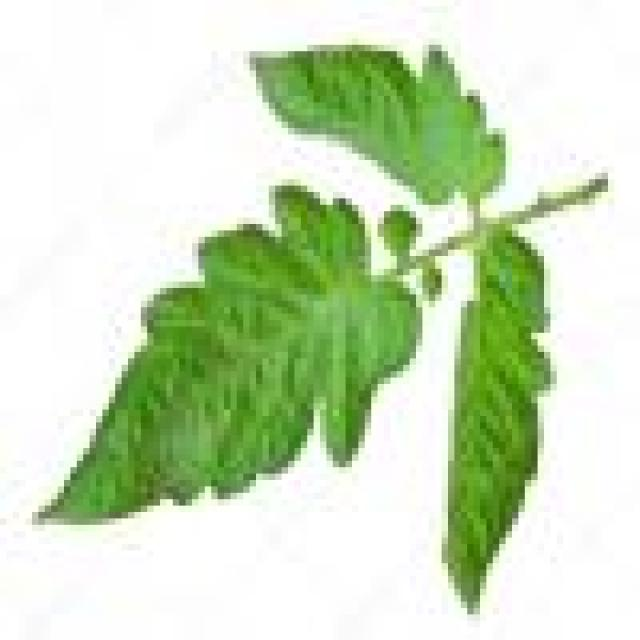Healthy Leaf: (32, 179, 429, 557), (428, 217, 550, 640), (243, 44, 512, 218)
